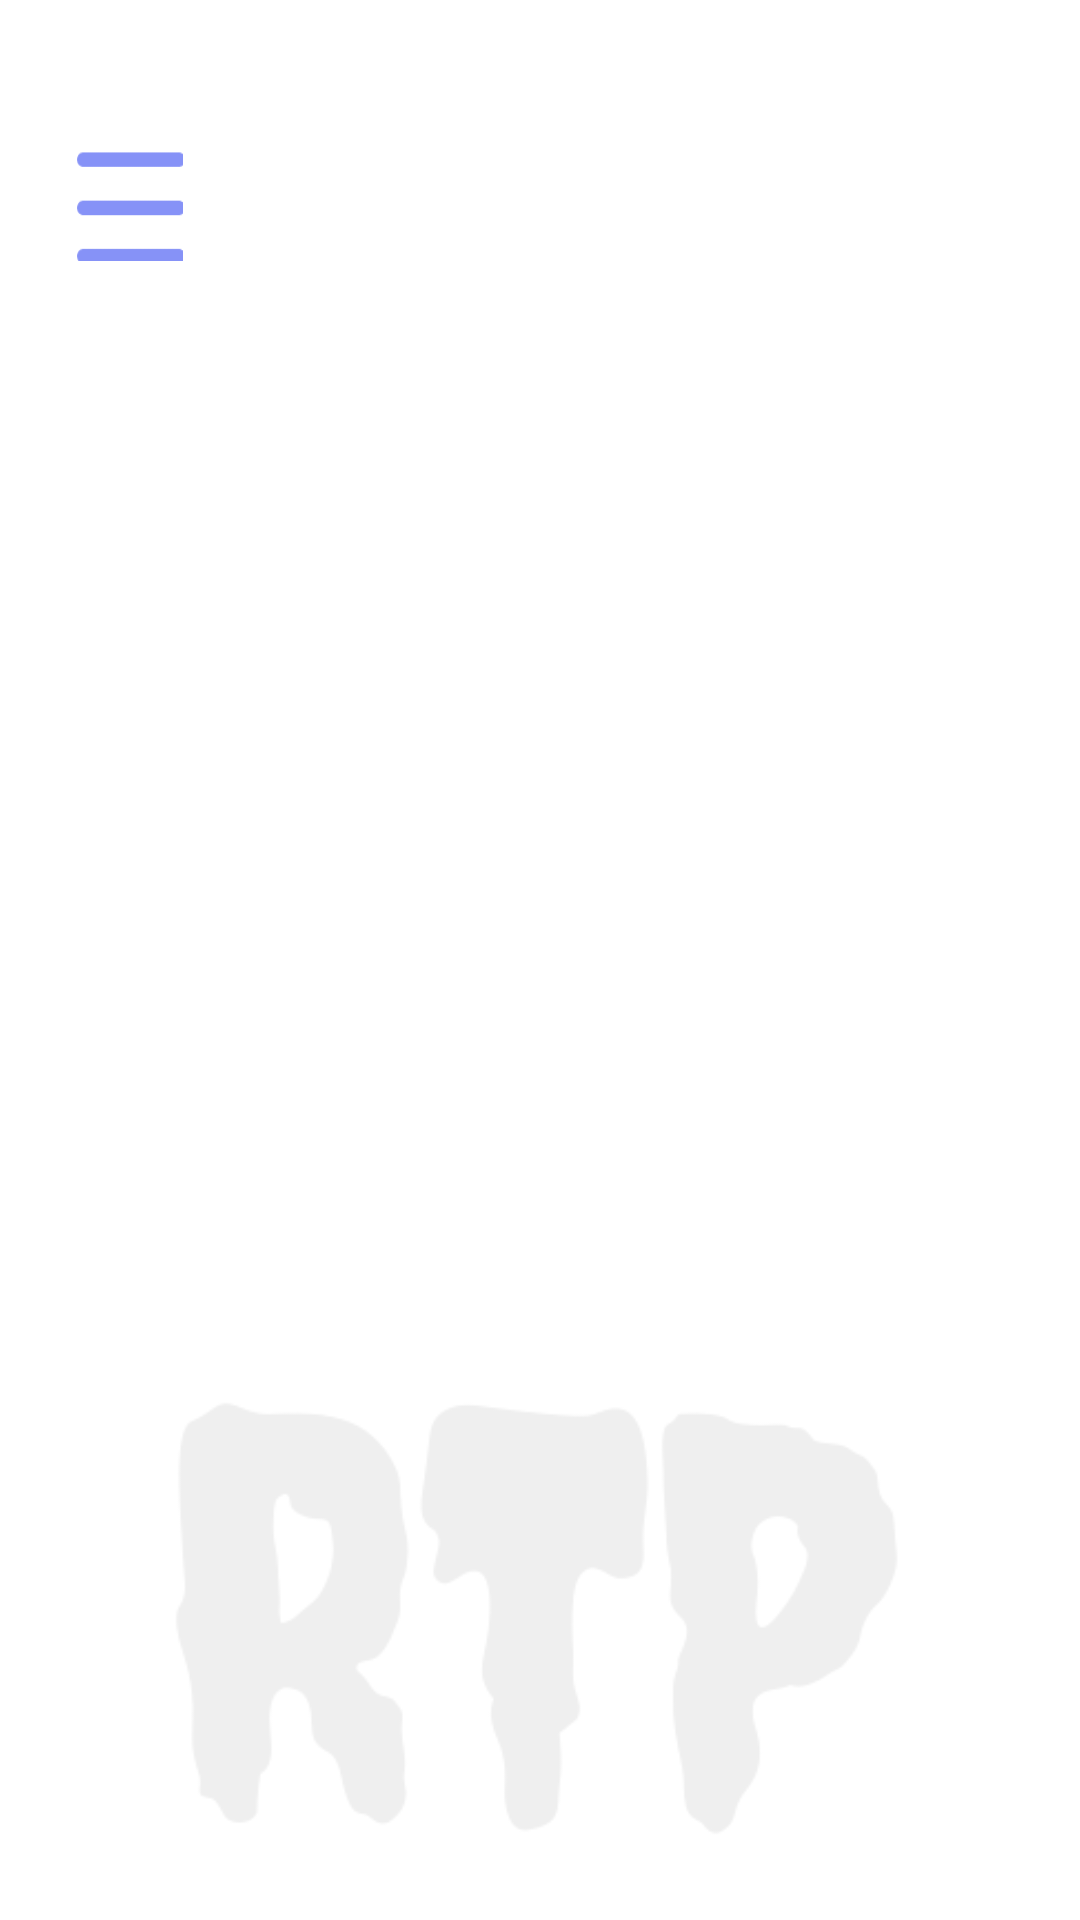

Named icons in this screenshot (1080*1920) and their bounding boxes, (x1, y1, x2, y2):
menu: (77, 152, 183, 261)
